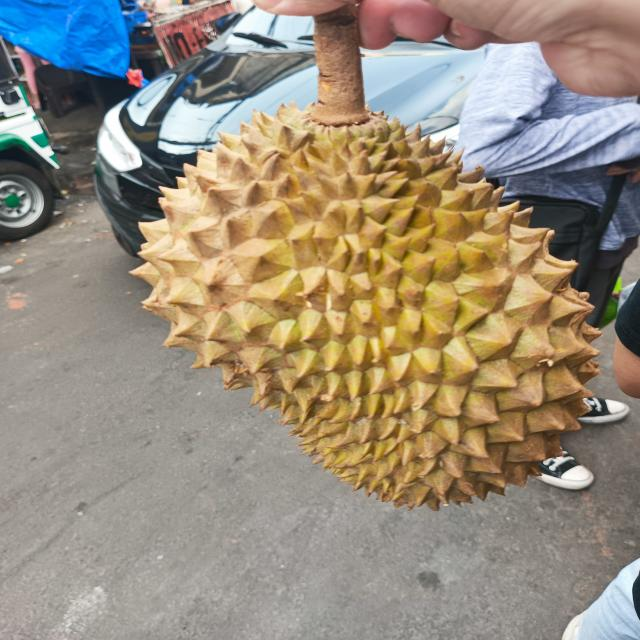mature: (129, 98, 599, 505)
